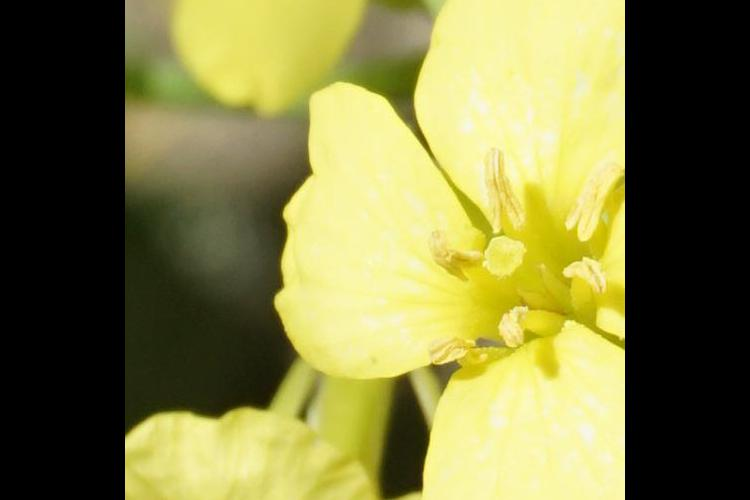yellow: (287, 1, 617, 500), (134, 411, 376, 500), (157, 1, 370, 87)
